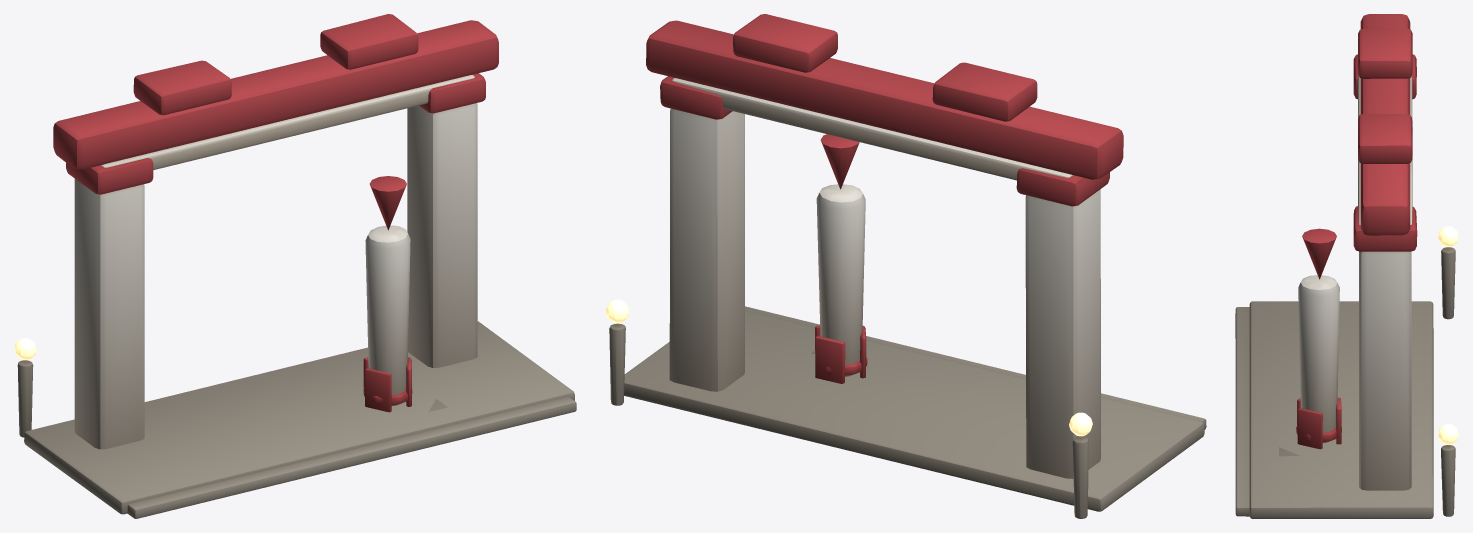
The picture shows the model from 3 angles, left to right: view 1: azimuth 30°, elevation 25°; view 2: azimuth 150°, elevation 25°; view 3: azimuth 270°, elevation 25°; orthographic projection. The views are drawn at different scales.
Visible parts, largest first — view 1: gate_44b62f54; view 2: gate_44b62f54; view 3: gate_44b62f54.
Part boxes in pixels (x1,y1,x2,y2): gate_44b62f54: (14,14,576,518); gate_44b62f54: (605,14,1206,518); gate_44b62f54: (1235,14,1458,518).
Bounding box in the file's own units: 5.6 × 4.21 × 2.55.
